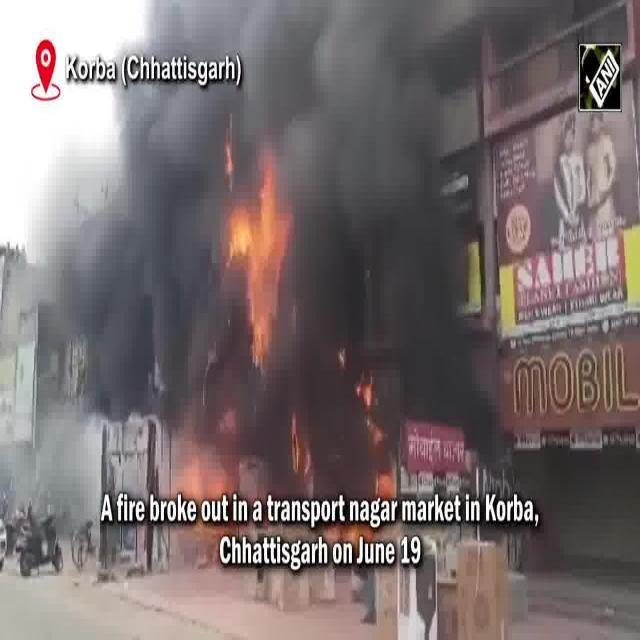Fire: (214, 130, 294, 394)
Smoke: (302, 0, 502, 351), (61, 2, 218, 438)
